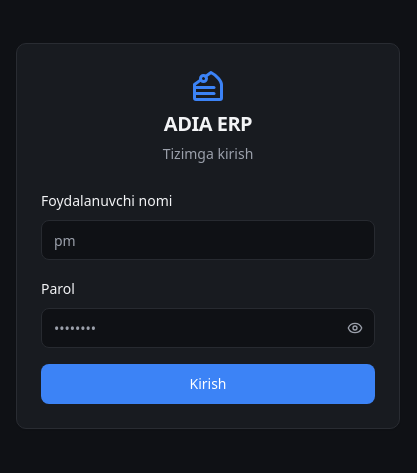
Test case: LoginPage › surfaces a network failure to the user
Type "x@adia.local" into the field labelled "Foydalanuvchi nomi".
click(208, 240); type("x@adia.local")  # box [41,220,375,260]
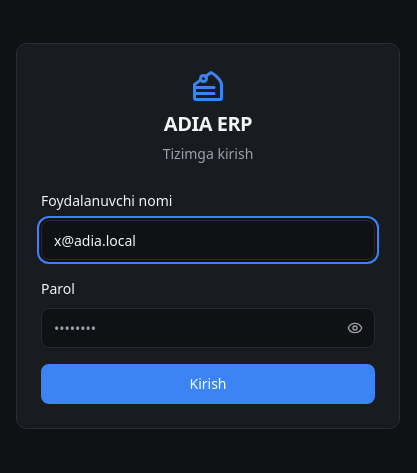
Type "secret123" into the password field labelled "Parol".
click(208, 328); type("secret123")  # box [41,308,375,348]
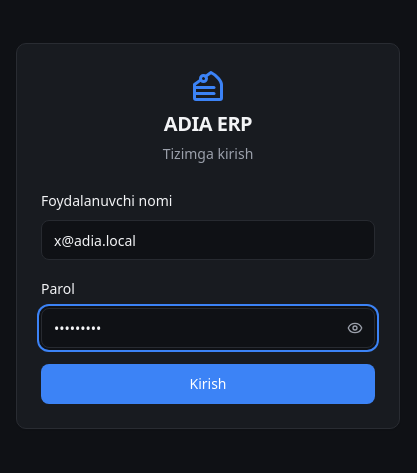
Click the button "Kirish".
click(208, 384)  # box [41,364,375,404]
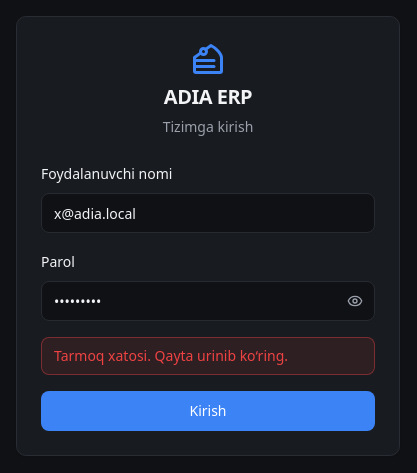
Result: the message "Tarmoq xatosi. Qayta urinib ko‘ring." is shown at [41,337,375,375]
